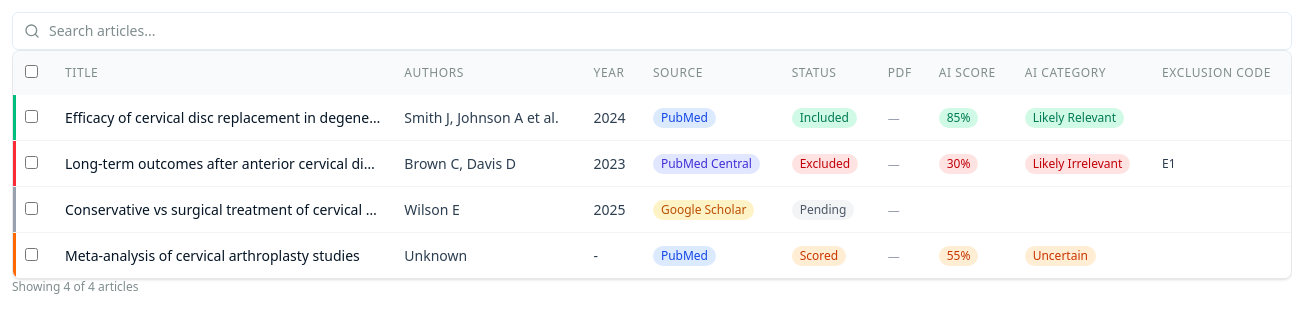
it: ArticleTable › selects all articles via select-all checkbox
Check: the row with test id "article-row-art-1" is shown, box [13, 95, 1291, 140]
Click the checkbox with test id "select-all-checkbox" at (32, 72), box [25, 65, 38, 78]
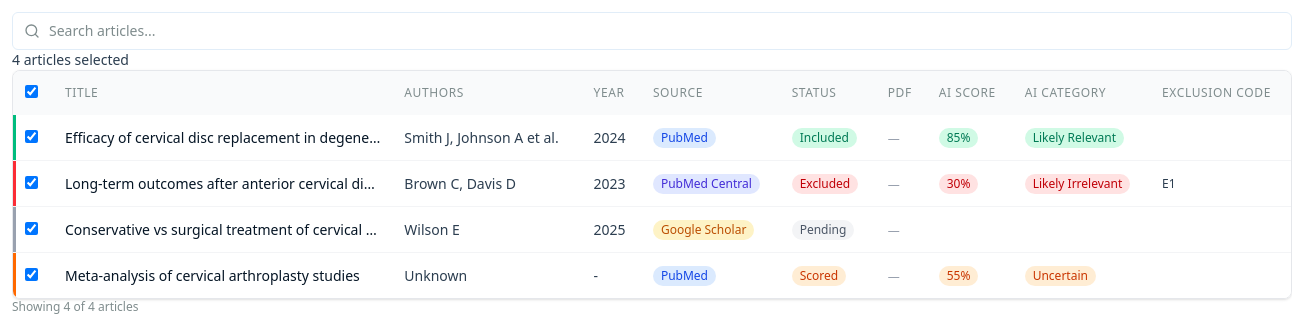
Check: the text with test id "selection-count" reads "4 articles selected", box [12, 50, 129, 69]
